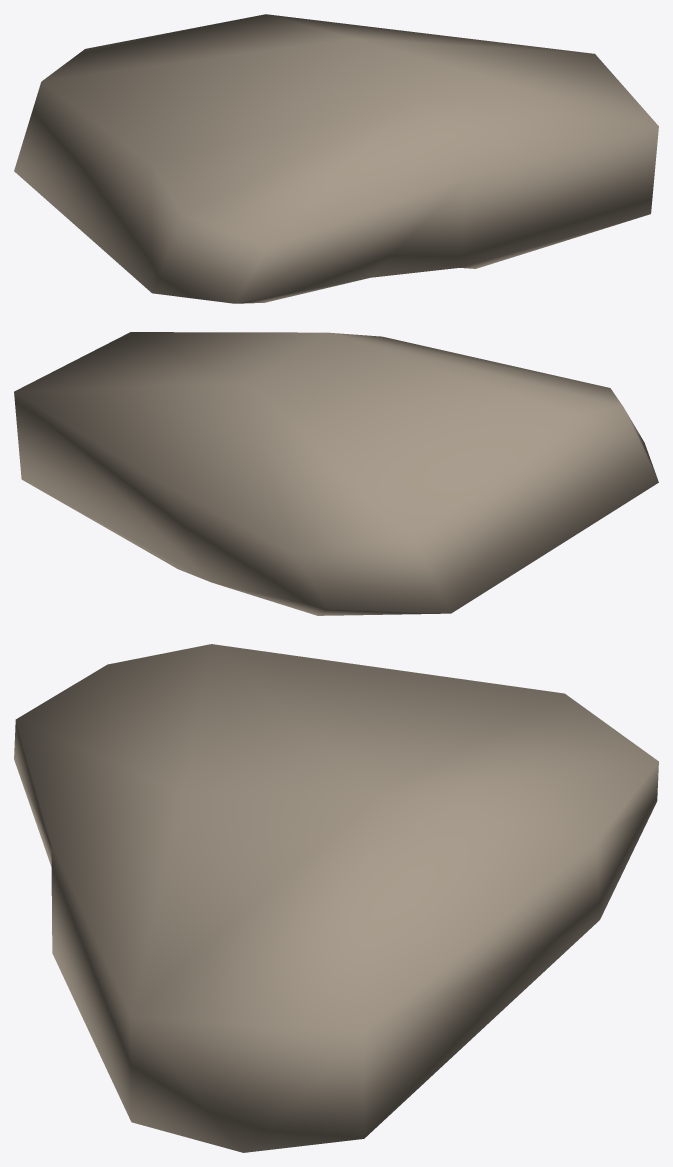
Rendered from hand_l.dae.
3 views of the same model, one above another, from view 1: azimuth 30°, elevation 25°; view 2: azimuth 150°, elevation 25°; view 3: azimuth 270°, elevation 25° (orthographic). The views are drawn at different scales.
Visible parts, largest first — view 1: Mesh_018; view 2: Mesh_018; view 3: Mesh_018.
Boxes of the visible parts, x1,y1,x2,y2 form: Mesh_018: [14, 14, 658, 303]; Mesh_018: [14, 332, 658, 615]; Mesh_018: [14, 644, 658, 1152].
Bounding box in the file's own units: 2.36 × 1.85 × 0.7579.
